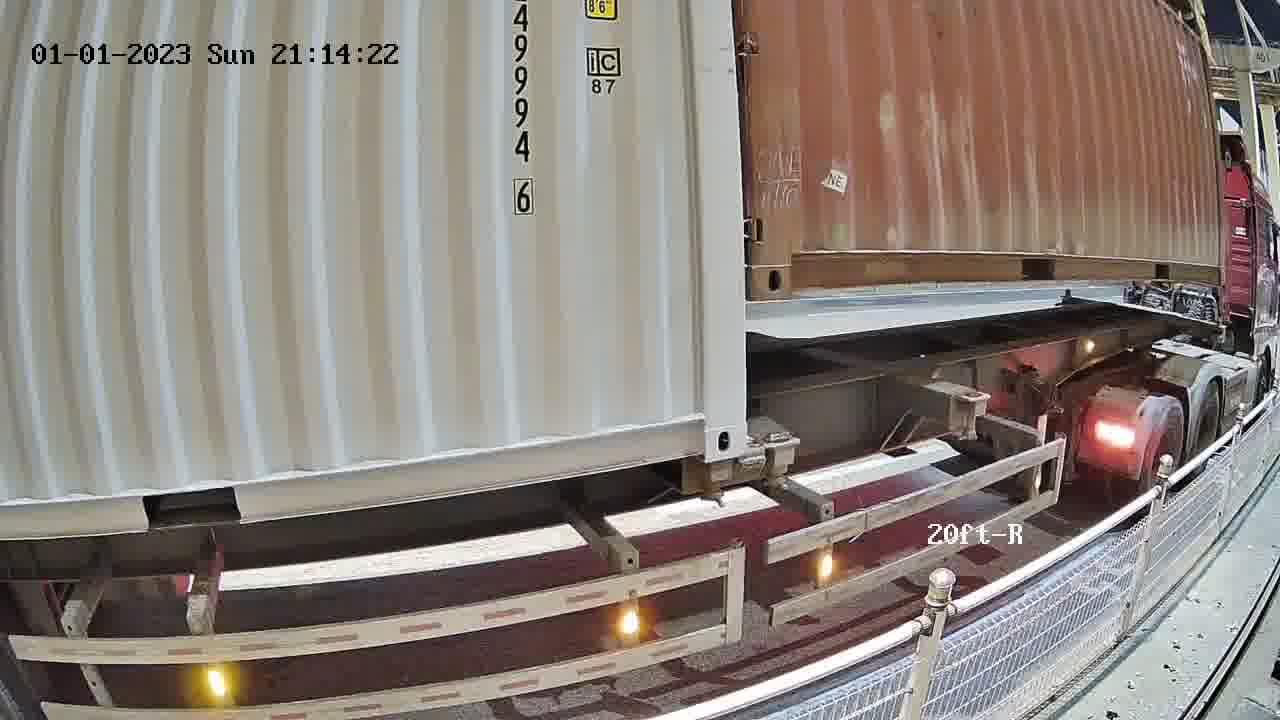Cone: (762, 432, 800, 493), (700, 458, 743, 508)
Hole_L: (750, 225, 825, 297)
Hole_R: (667, 384, 746, 458)
Tire: (1147, 406, 1187, 482), (1192, 382, 1223, 458)
